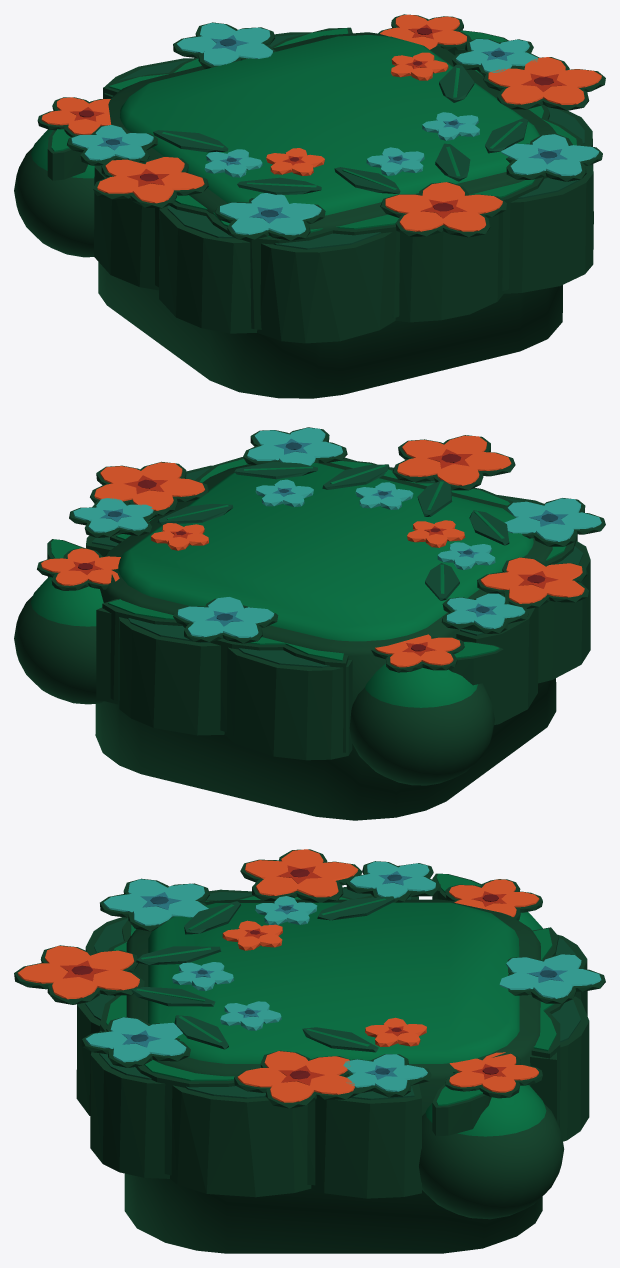
File: body_arbusto_florido.fbx
The picture shows the model from 3 angles, top to bottom: view 1: azimuth 30°, elevation 25°; view 2: azimuth 150°, elevation 25°; view 3: azimuth 270°, elevation 25°; orthographic projection. The views are drawn at different scales.
Parts seen in each view (by area): view 1: body_arbusto_florido_corpo, body_arbusto_florido_mao_esq, body_arbusto_florido_mao; view 2: body_arbusto_florido_corpo, body_arbusto_florido_mao_esq, body_arbusto_florido_mao; view 3: body_arbusto_florido_corpo, body_arbusto_florido_mao, body_arbusto_florido_mao_esq.
Boxes of the visible parts, x1=… form: body_arbusto_florido_corpo: x1=67, y1=22, x2=605, y2=398; body_arbusto_florido_mao_esq: x1=14, y1=97, x2=111, y2=257; body_arbusto_florido_mao: x1=378, y1=14, x2=508, y2=55; body_arbusto_florido_corpo: x1=69, y1=427, x2=605, y2=820; body_arbusto_florido_mao_esq: x1=349, y1=634, x2=503, y2=785; body_arbusto_florido_mao: x1=14, y1=539, x2=120, y2=704; body_arbusto_florido_corpo: x1=14, y1=849, x2=605, y2=1253; body_arbusto_florido_mao: x1=419, y1=1052, x2=564, y2=1219; body_arbusto_florido_mao_esq: x1=432, y1=873, x2=542, y2=930.
Bounding box in the file's own units: 5.78 × 2.06 × 5.65.
Materials: 1 (1 with a texture image).
